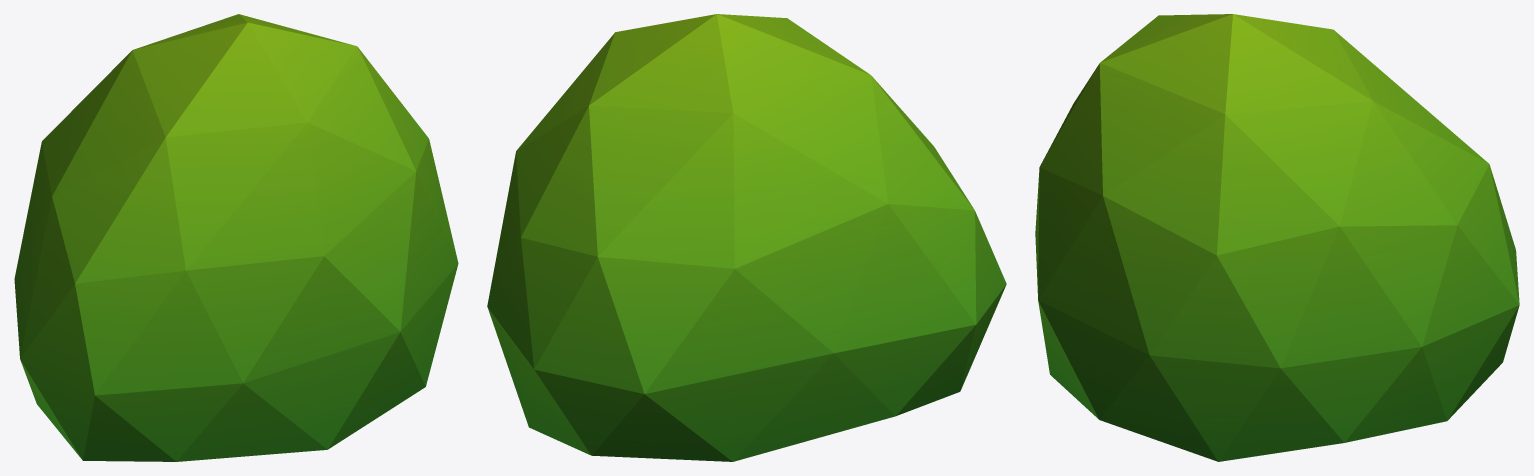
Rendered from FloatingIsland_Dif10_Sc1.fbx.
The picture shows the model from 3 angles, left to right: view 1: azimuth 30°, elevation 25°; view 2: azimuth 150°, elevation 25°; view 3: azimuth 270°, elevation 25°; orthographic projection. The views are drawn at different scales.
Visible parts, largest first — view 1: FloatingIsland_Dif10_Sc1; view 2: FloatingIsland_Dif10_Sc1; view 3: FloatingIsland_Dif10_Sc1.
Boxes of the visible parts, bbox=[...] form: FloatingIsland_Dif10_Sc1: bbox=[14, 14, 458, 461]; FloatingIsland_Dif10_Sc1: bbox=[487, 14, 1006, 461]; FloatingIsland_Dif10_Sc1: bbox=[1035, 14, 1519, 461].
Size of the model in its own units: 0.7145 by 0.6785 by 0.5652.
